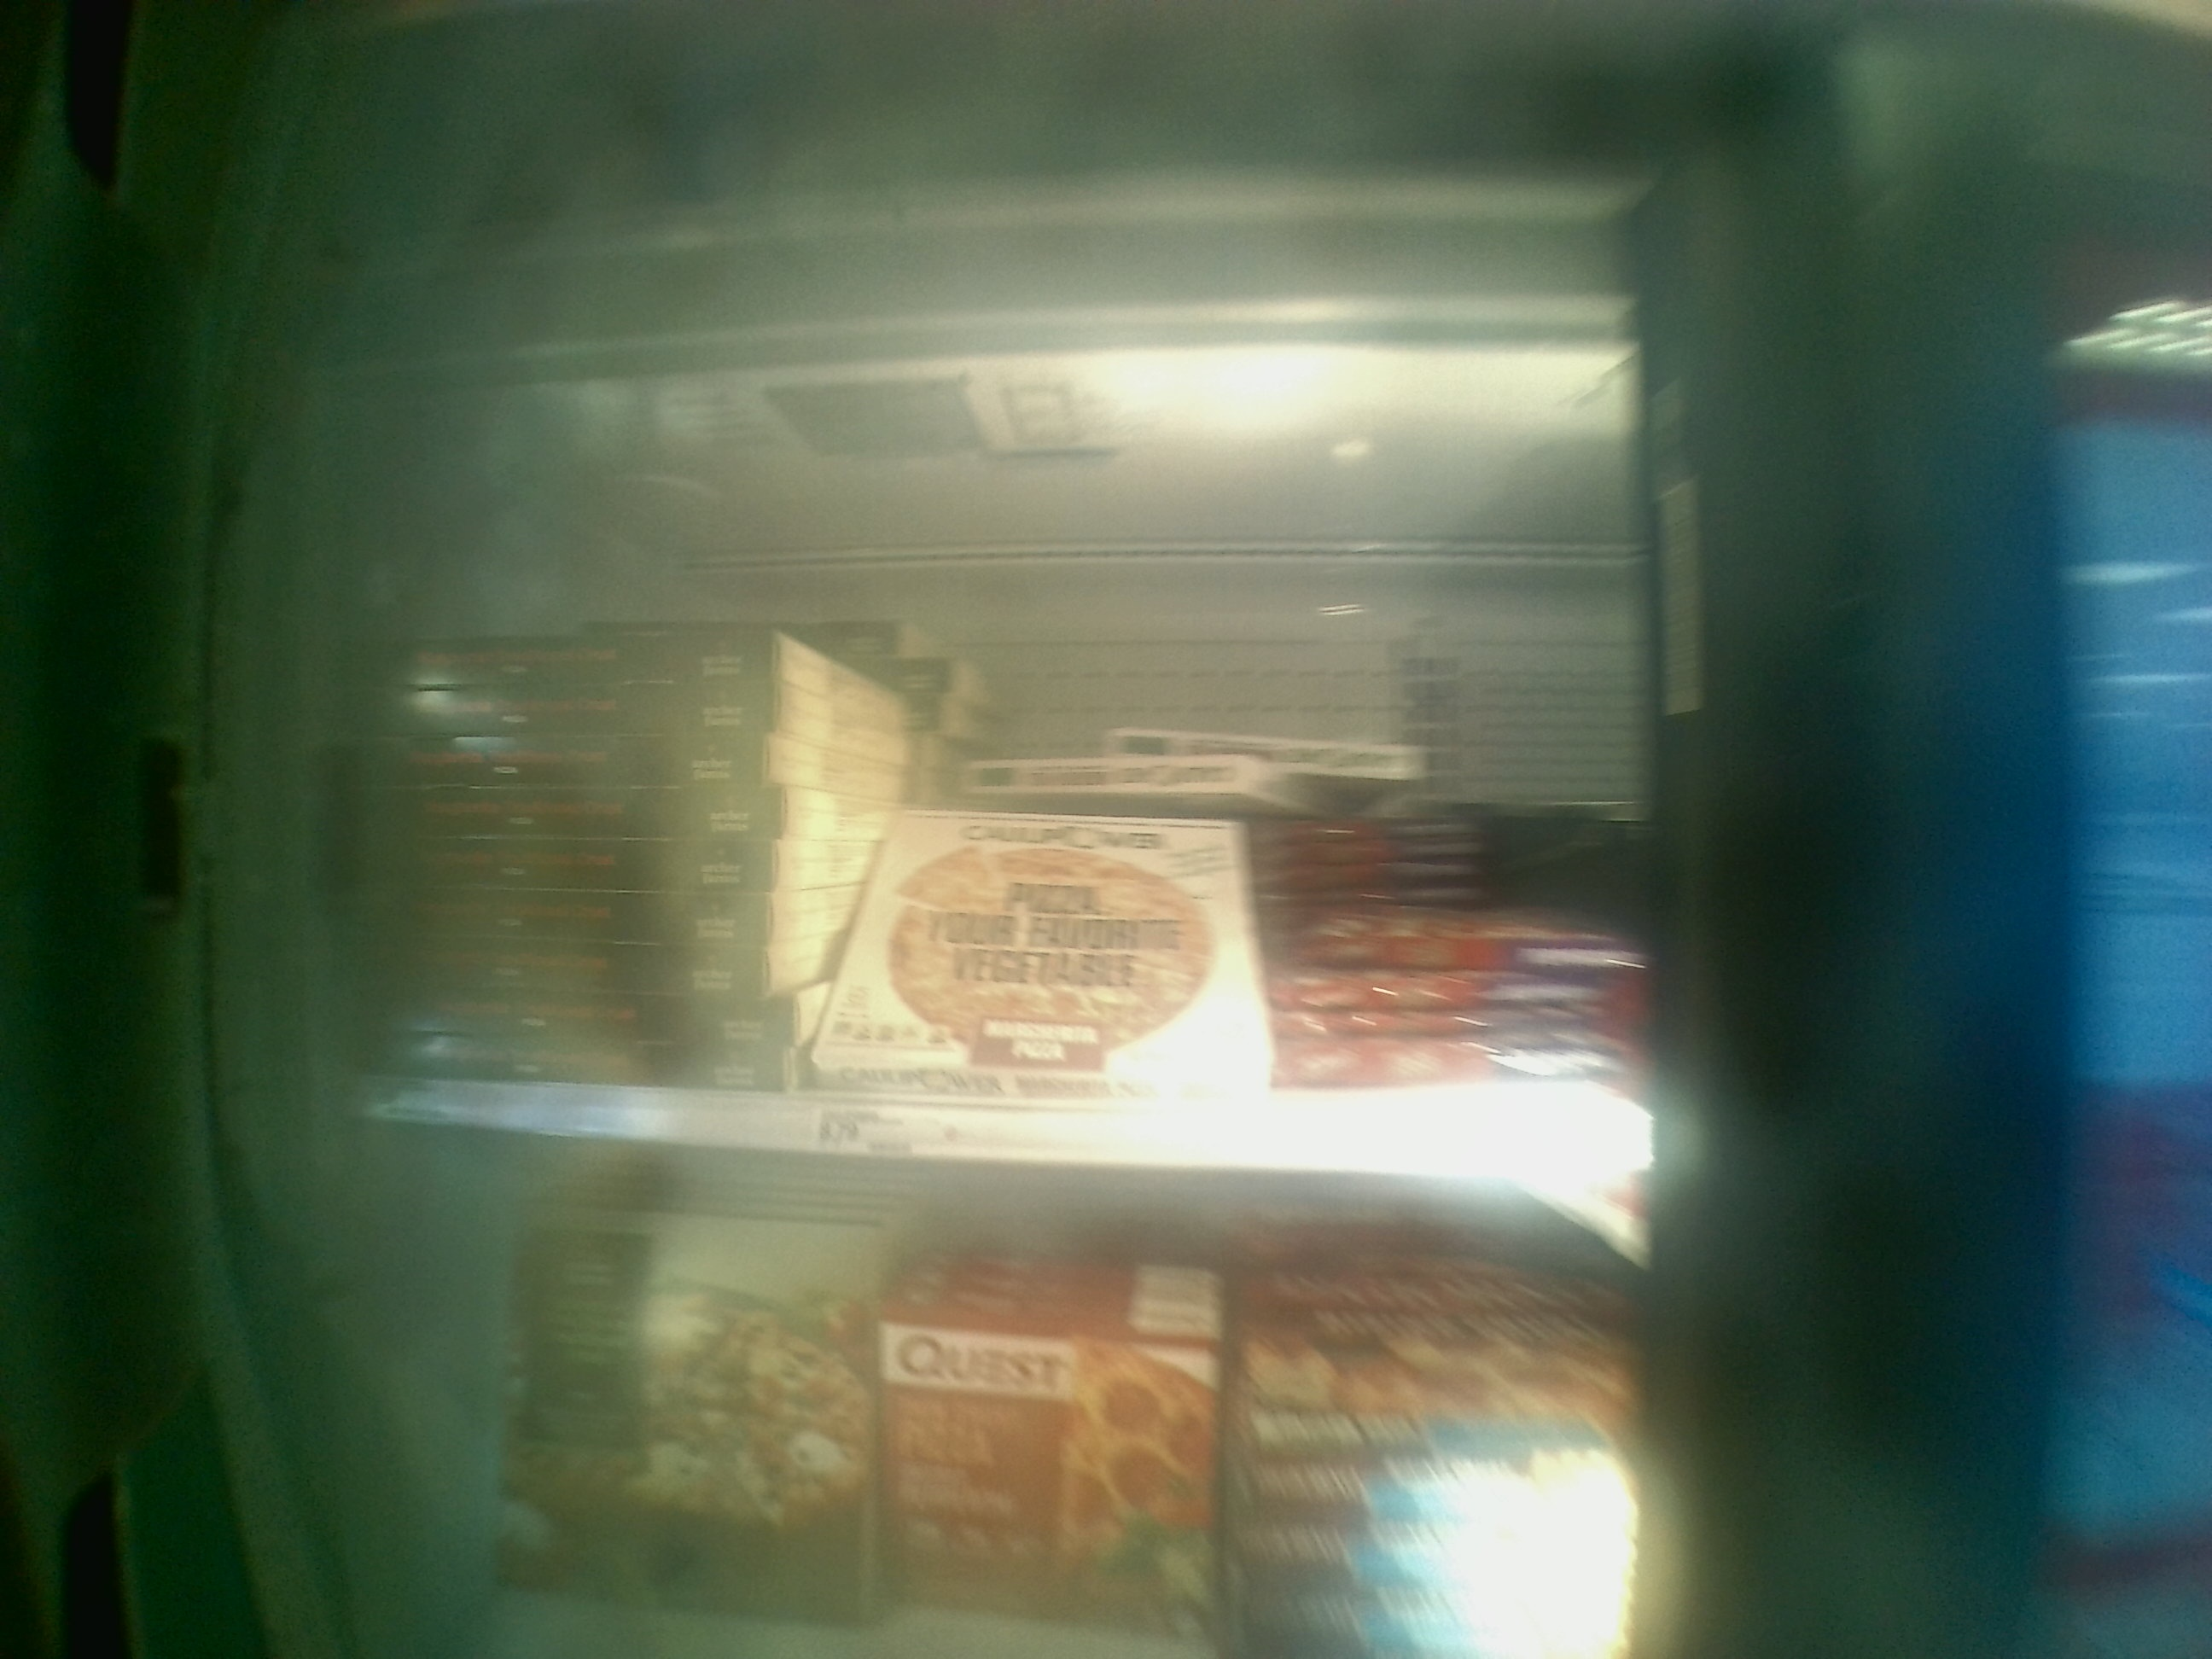shelf: (354, 495, 1649, 1176)
